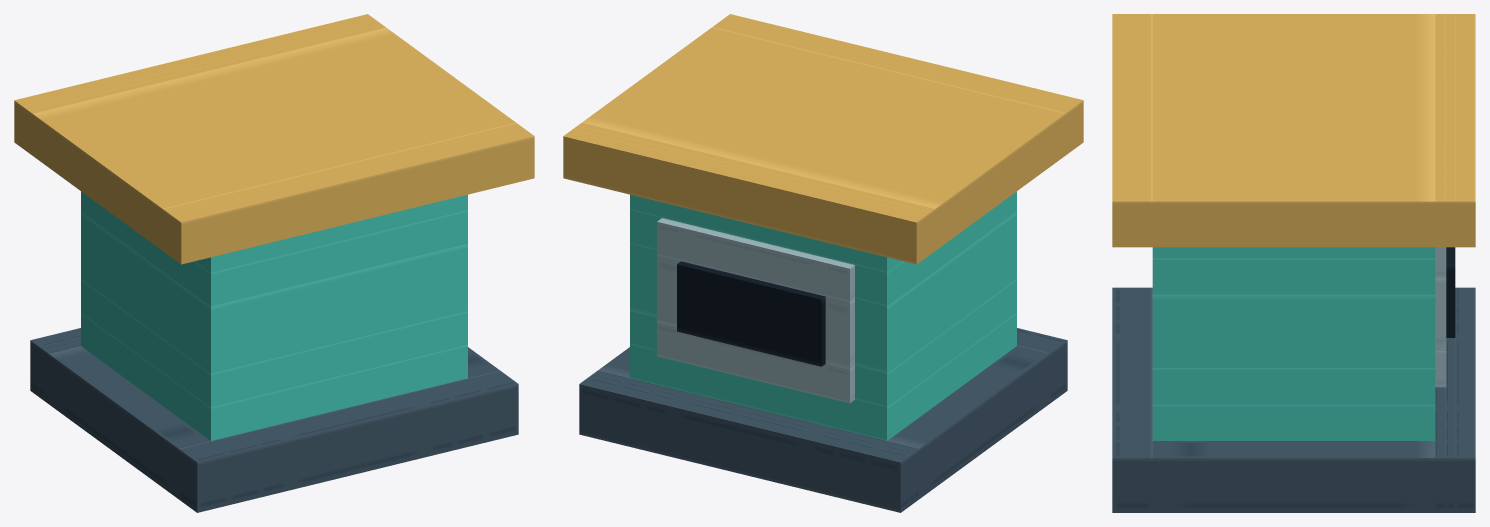
Rendered from sc_mount_blueprint_archive.obj.
3 views of the same model, side by side, from view 1: azimuth 30°, elevation 25°; view 2: azimuth 150°, elevation 25°; view 3: azimuth 270°, elevation 25° (orthographic). The views are drawn at different scales.
Bounding box in the file's own units: 4.4 × 3.5 × 3.6.
Materials: 1 (1 with a texture image).
